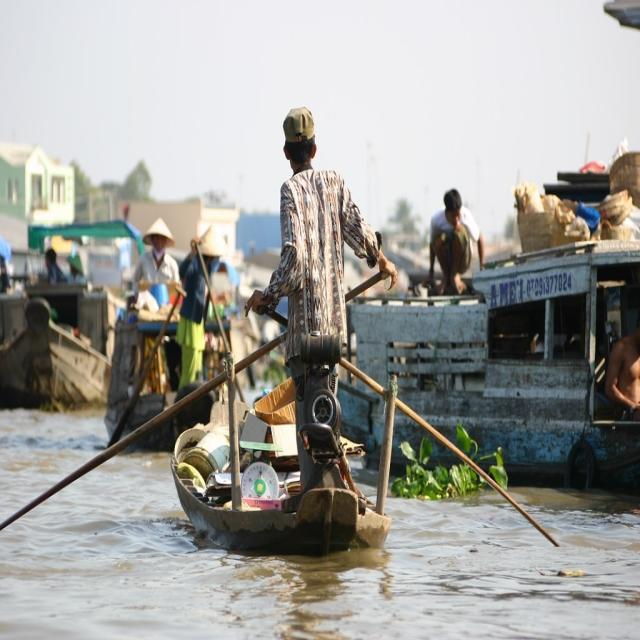Hyacinth: (399, 439, 499, 503)
boat: (175, 418, 397, 567), (114, 312, 217, 456), (9, 280, 119, 405)
